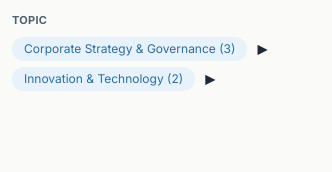
Scenario: TopicFacet › expands a category to reveal its topics
The image size is (332, 172).
Click the button named "Toggle Corporate Strategy & Governance" at (262, 48), box left=249, top=36, right=274, bottom=62
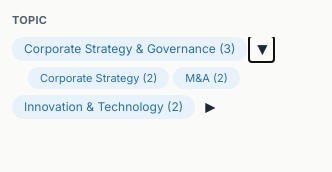
Now the button "M&A (2)" is shown, box left=173, top=66, right=240, bottom=89
Now the button "Corporate Strategy (2)" is shown, box left=28, top=66, right=169, bottom=89
